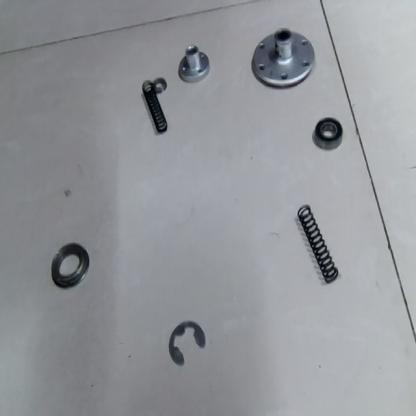FOD: (249, 24, 317, 91), (295, 201, 341, 289), (49, 239, 93, 293), (137, 75, 170, 136), (165, 322, 206, 370), (177, 42, 212, 86), (310, 116, 348, 152), (150, 74, 167, 94)
